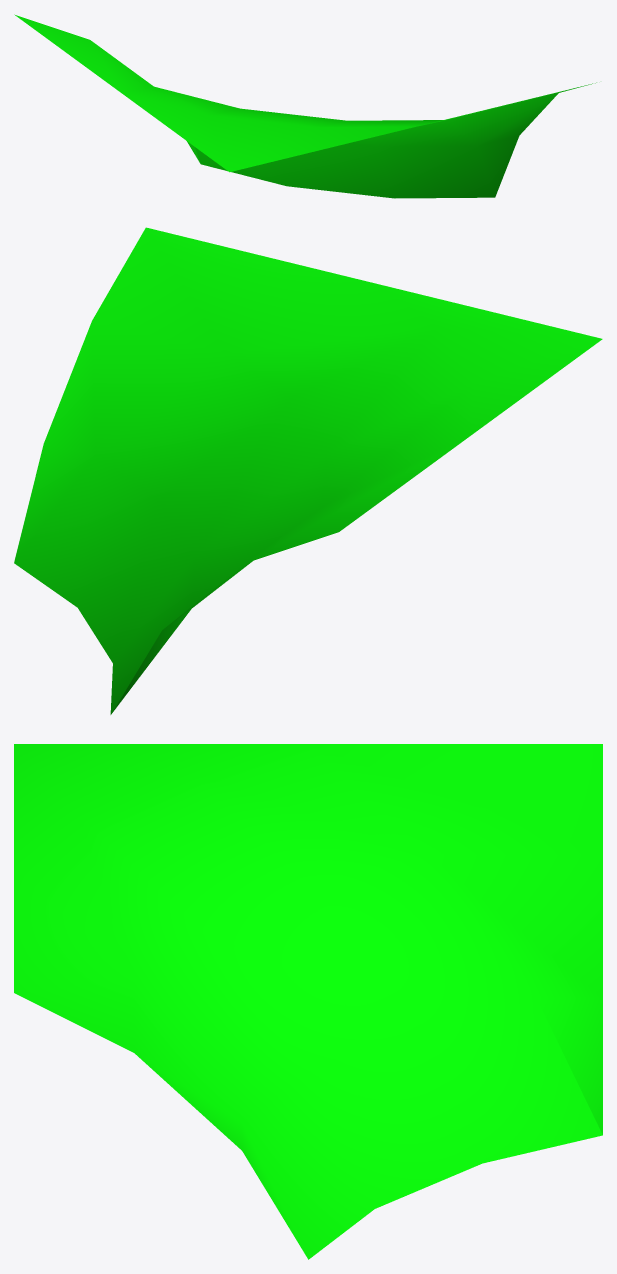
3 renders of one model, top to bottom at view 1: azimuth 30°, elevation 25°; view 2: azimuth 150°, elevation 25°; view 3: azimuth 270°, elevation 25°, orthographic. The views are drawn at different scales.
Visible parts, largest first — view 1: None_E_G_E_E_G_G_E_E_None; view 2: None_E_G_E_E_G_G_E_E_None; view 3: None_E_G_E_E_G_G_E_E_None.
Boxes of the visible parts, x1,y1,x2,y2 form: None_E_G_E_E_G_G_E_E_None: [14, 14, 596, 198]; None_E_G_E_E_G_G_E_E_None: [14, 227, 602, 714]; None_E_G_E_E_G_G_E_E_None: [14, 744, 602, 1259].
Bounding box in the file's own units: 100 × 50 × 100.
